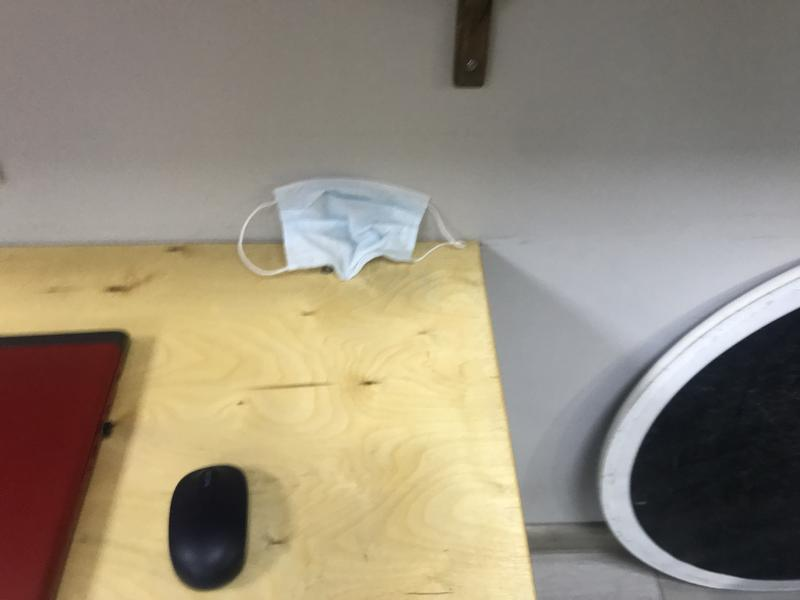medical_mask: (237, 177, 467, 278)
